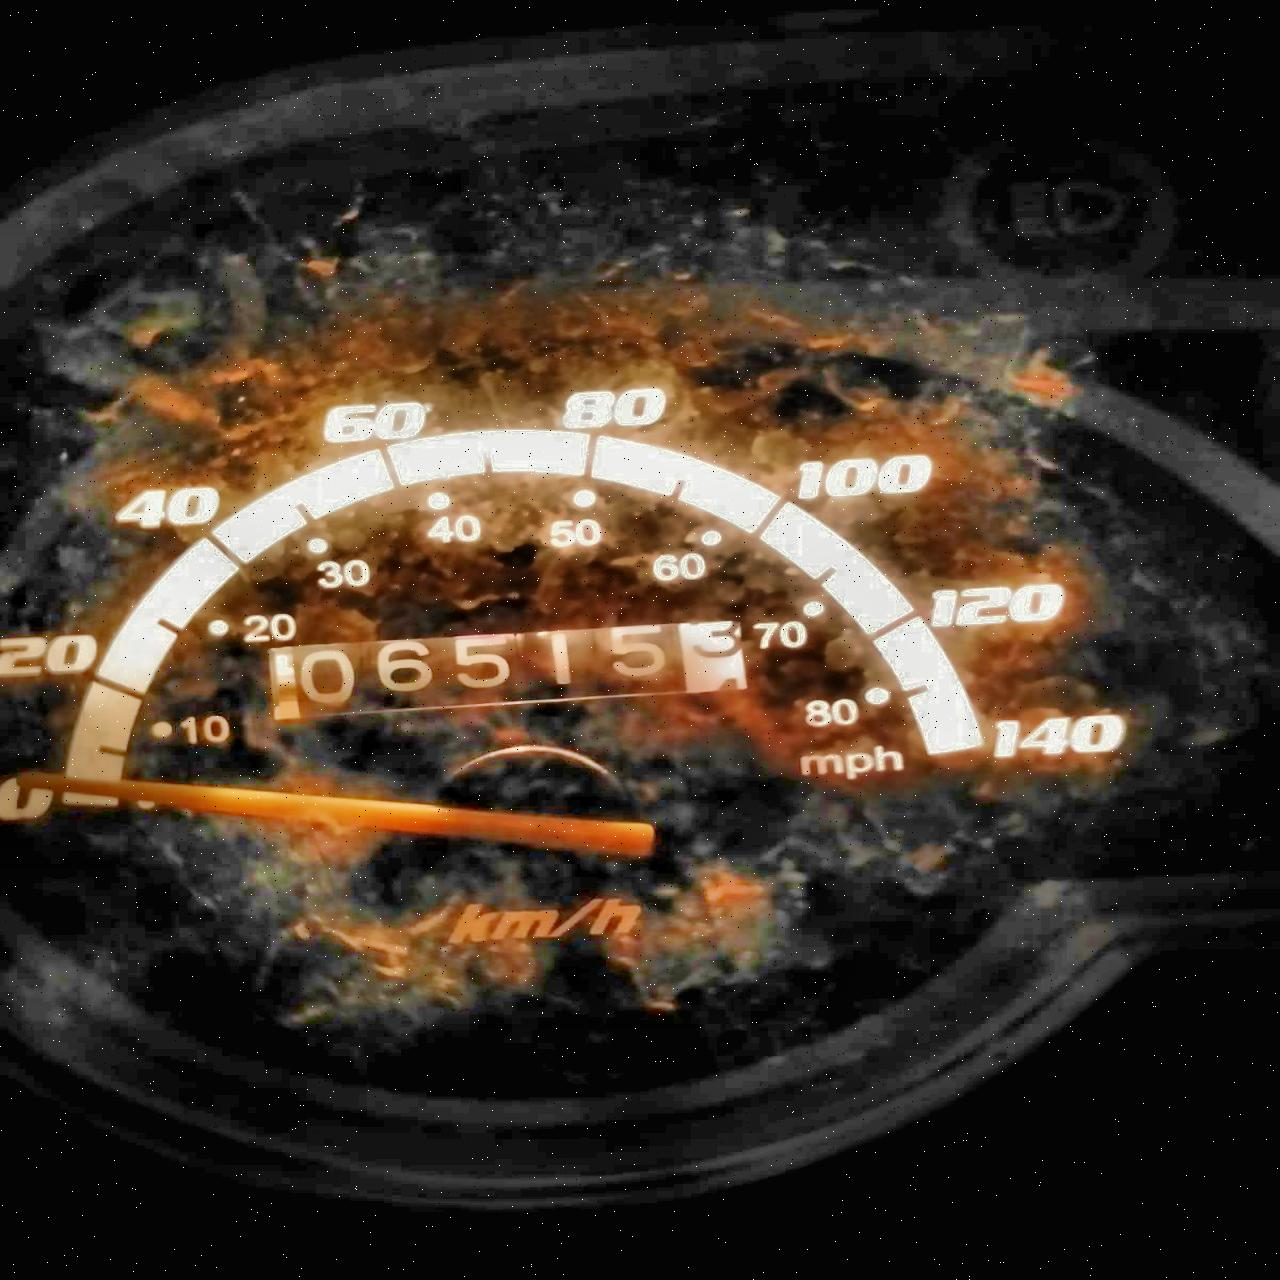0: (299, 647, 361, 707), (268, 612, 299, 640)
1: (539, 627, 585, 689)
3: (679, 615, 749, 666)
5: (449, 632, 516, 690), (607, 621, 670, 676)
6: (373, 636, 438, 694)
odometer: (257, 613, 764, 722)
